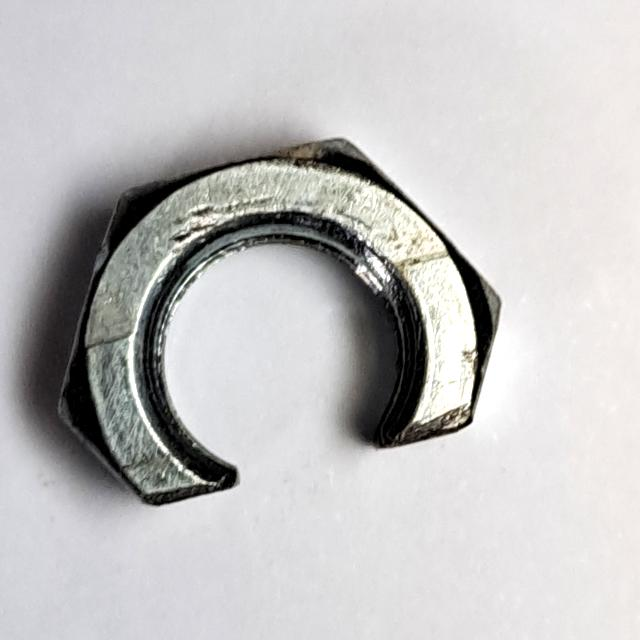Fracture: (48, 121, 518, 528)
